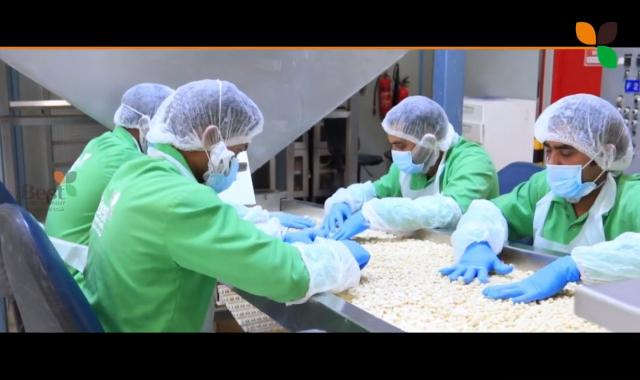hairnet: (529, 90, 636, 174), (149, 80, 262, 146), (378, 93, 454, 165), (113, 81, 179, 128)
